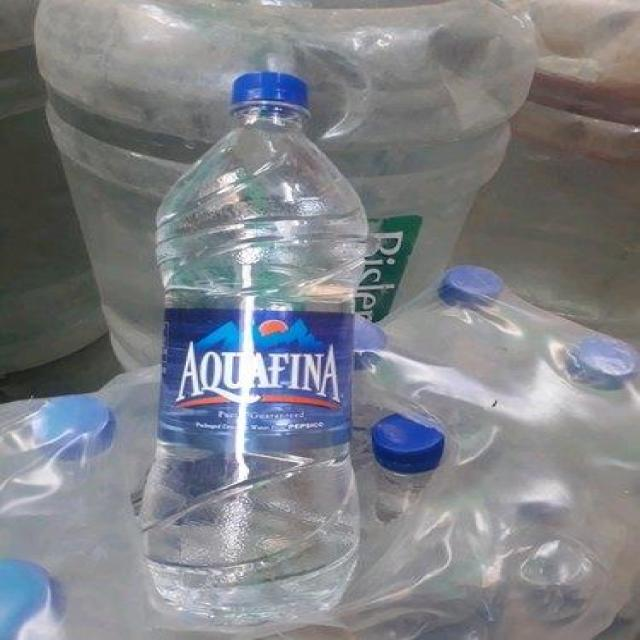bottle: (132, 55, 375, 635)
